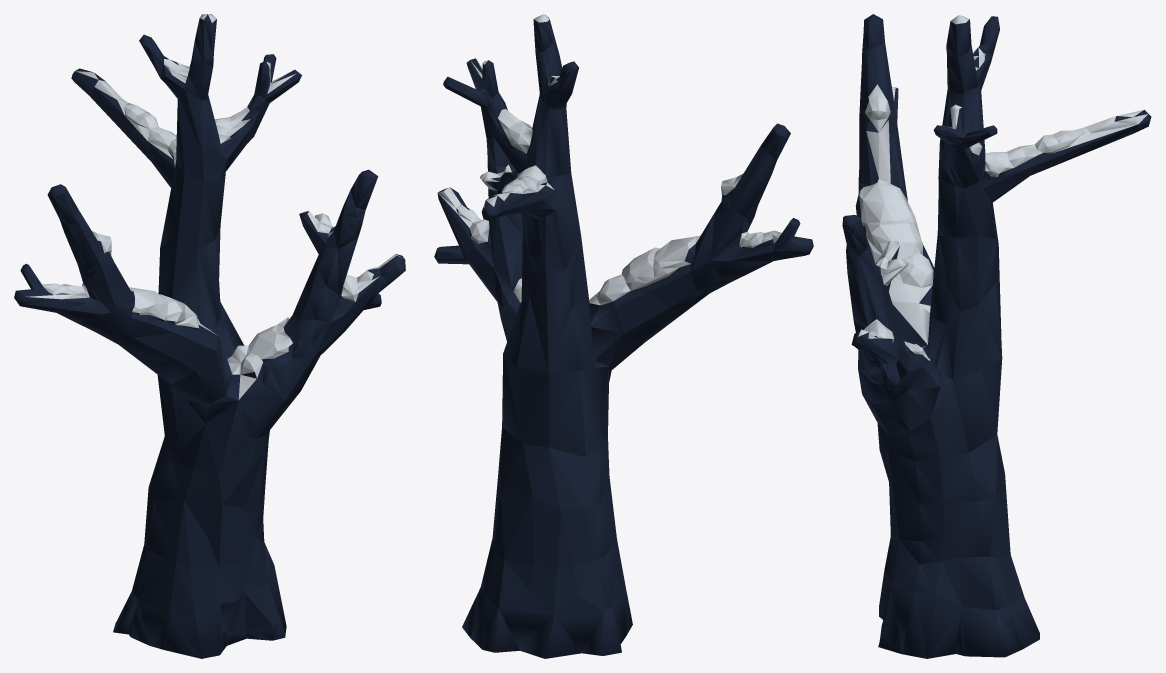
Rendered from bare_tree_flat.glb.
The picture shows the model from 3 angles, left to right: view 1: azimuth 30°, elevation 25°; view 2: azimuth 150°, elevation 25°; view 3: azimuth 270°, elevation 25°; orthographic projection.
Parts seen in each view (by area): view 1: material; view 2: material; view 3: material.
Boxes of the visible parts, x1,y1,x2,y2 form: material: (14,14,405,658); material: (434,14,813,658); material: (842,14,1151,658).
Bounding box in the file's own units: 3.26 × 5 × 2.27.
